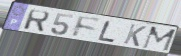5: (50, 12, 76, 36)
F: (71, 15, 102, 39)
K: (121, 23, 148, 48)
L: (97, 20, 117, 44)
M: (141, 26, 178, 53)
R: (22, 9, 51, 34)
